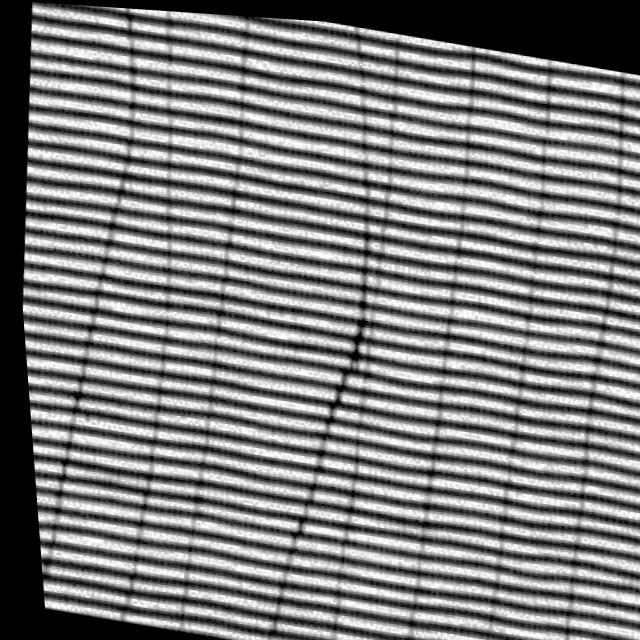Stitch: (249, 159, 433, 516)
